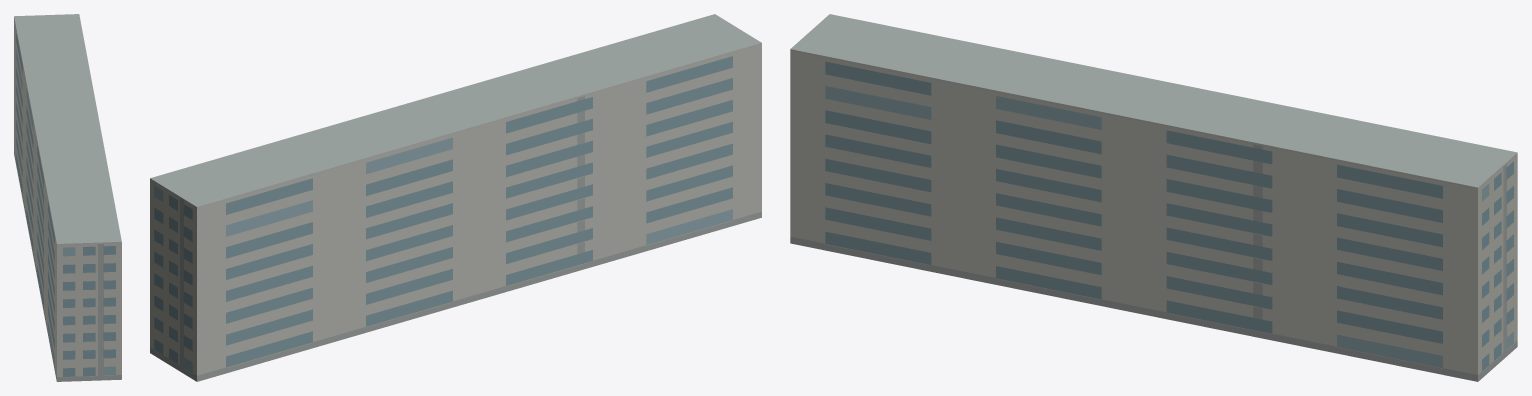
Rendered from residential-9bc4d4ac-9487-4adc-a568-68da152d9539.glb.
The picture shows the model from 3 angles, left to right: view 1: azimuth 30°, elevation 25°; view 2: azimuth 150°, elevation 25°; view 3: azimuth 270°, elevation 25°; orthographic projection. The views are drawn at different scales.
Visible parts, largest first — view 1: residential-9bc4d4ac-9487-4adc-a568-68da152d9539.tmp; view 2: residential-9bc4d4ac-9487-4adc-a568-68da152d9539.tmp; view 3: residential-9bc4d4ac-9487-4adc-a568-68da152d9539.tmp.
Part boxes in pixels (bbox=[...]): residential-9bc4d4ac-9487-4adc-a568-68da152d9539.tmp: bbox=[14, 14, 121, 381]; residential-9bc4d4ac-9487-4adc-a568-68da152d9539.tmp: bbox=[150, 14, 761, 381]; residential-9bc4d4ac-9487-4adc-a568-68da152d9539.tmp: bbox=[790, 14, 1517, 381].
Bounding box in the file's own units: 46.76 × 24.4 × 82.79.
